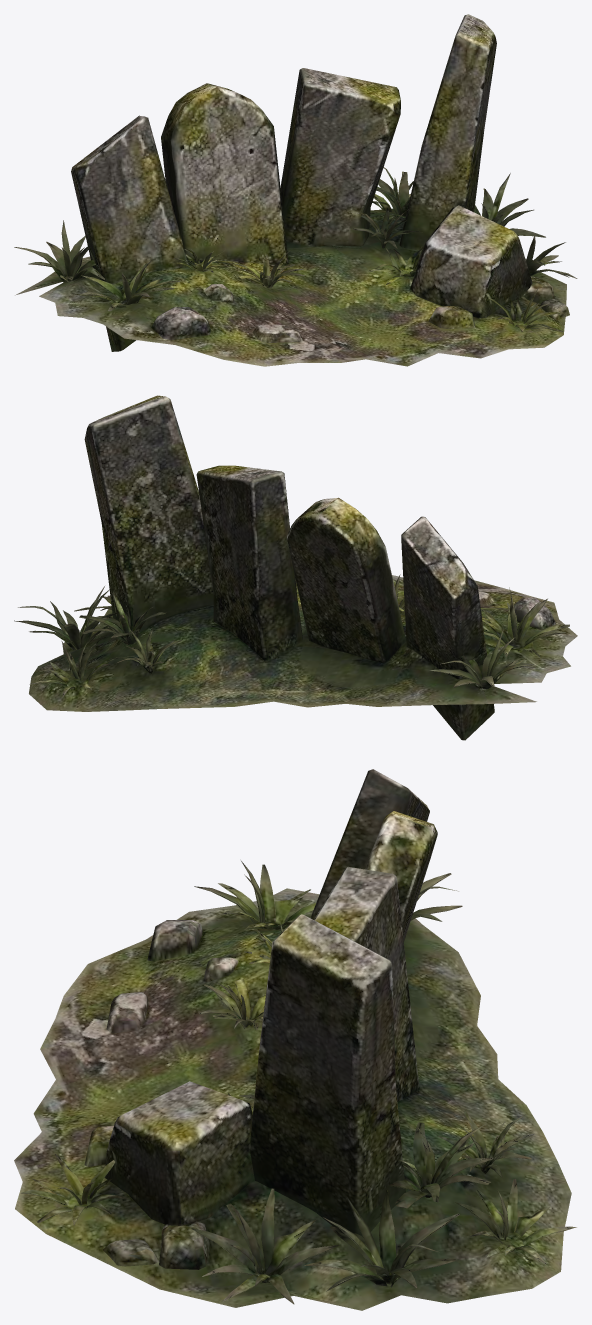
The model's file is act1-a02-3-headstones.glb.
The picture shows the model from 3 angles, top to bottom: view 1: azimuth 30°, elevation 25°; view 2: azimuth 150°, elevation 25°; view 3: azimuth 270°, elevation 25°; orthographic projection. The views are drawn at different scales.
Parts seen in each view (by area): view 1: act1-a02-3-headstones; view 2: act1-a02-3-headstones; view 3: act1-a02-3-headstones.
Part boxes in pixels (<box>): act1-a02-3-headstones: <box>14,14,577,366</box>; act1-a02-3-headstones: <box>14,395,577,740</box>; act1-a02-3-headstones: <box>14,769,576,1310</box>.
Size of the model in its own units: 3 by 1.4 by 2.09.
Materials: 1 (1 with a texture image).
